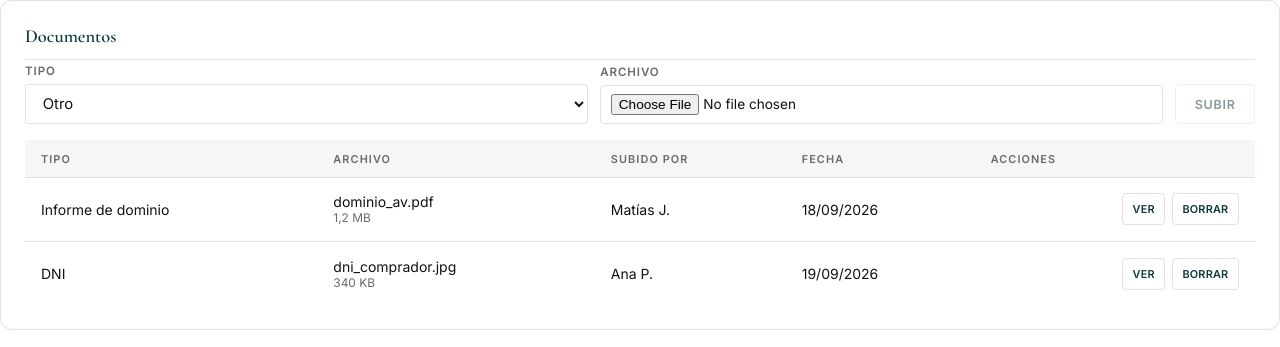
borrar pide confirmación y saca la fila
Check: the text "dominio_av.pdf" is shown, box [333, 193, 434, 210]
Click the button "Borrar" in the row of "Informe de dominio": {"x": 1205, "y": 209} [1172, 193, 1239, 225]
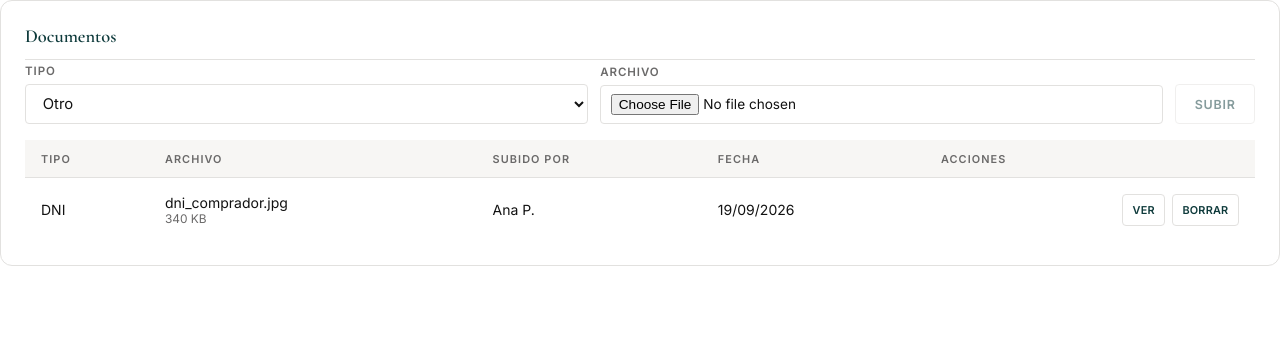
Check: the text "dni_comprador.jpg" is shown, box [165, 194, 288, 210]
Check: the text "dominio_av.pdf" is gone
